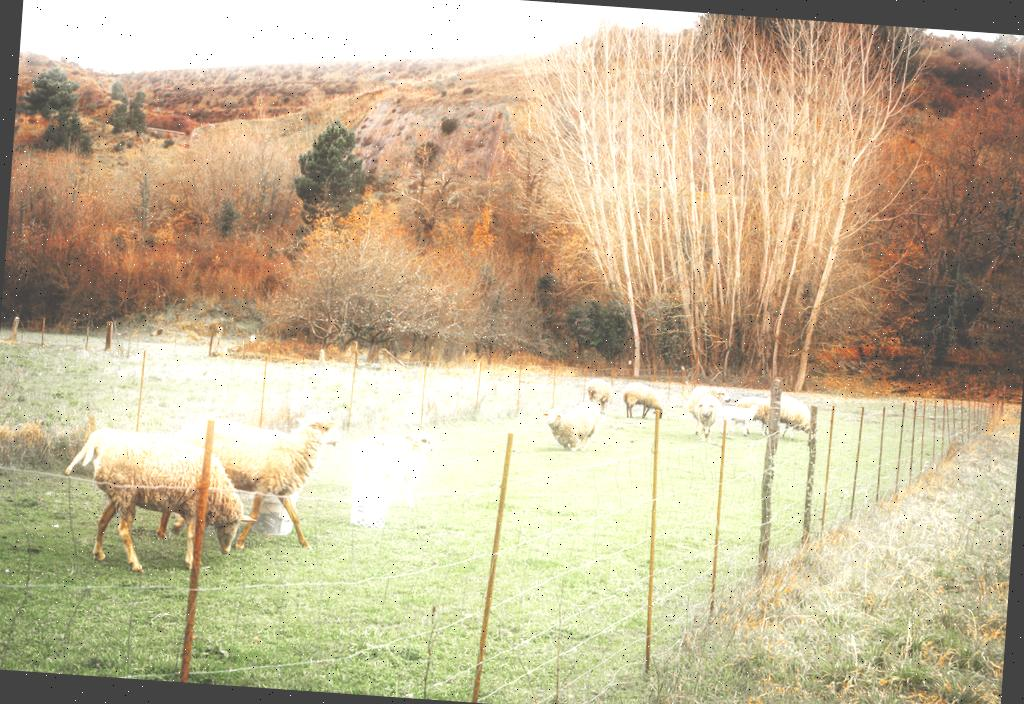Sheep: (64, 409, 248, 575), (164, 405, 349, 550), (356, 430, 438, 509), (538, 397, 609, 454), (731, 393, 797, 439), (765, 392, 816, 441), (684, 382, 730, 429), (620, 380, 666, 420), (718, 402, 760, 440), (692, 392, 722, 445), (584, 375, 614, 416)
